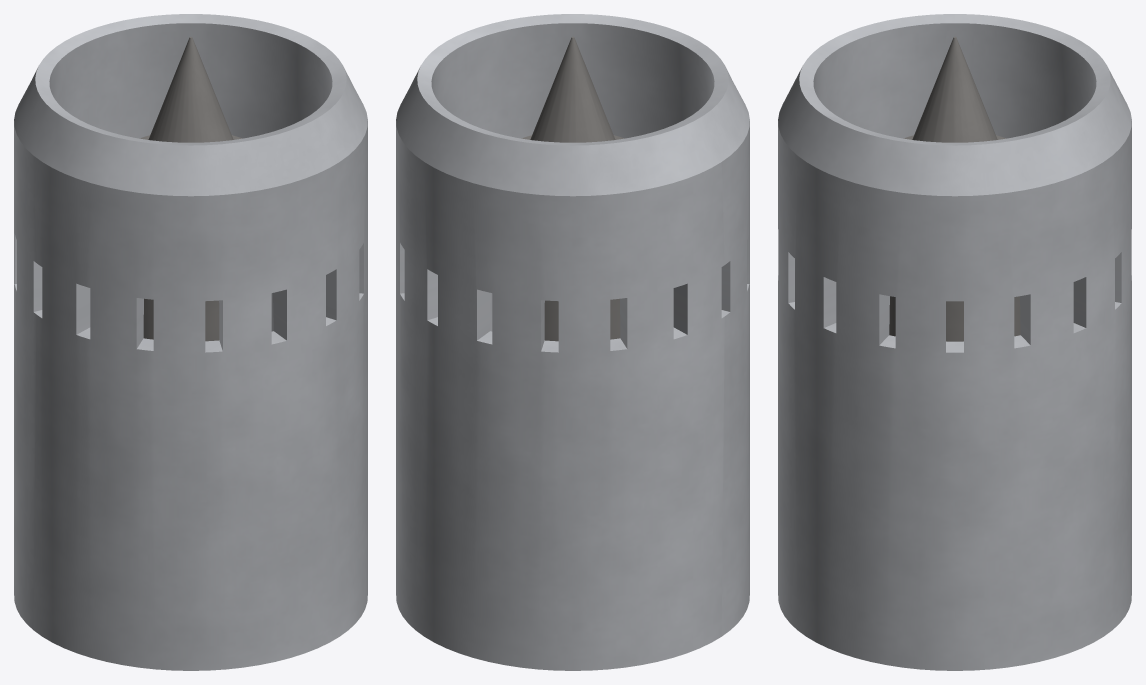
Rendered from jet07_shock_cone_intake_s_spike_aft.glb.
3 renders of one model, left to right at view 1: azimuth 30°, elevation 25°; view 2: azimuth 150°, elevation 25°; view 3: azimuth 270°, elevation 25°, orthographic.
Parts seen in each view (by area): view 1: cowl, spike, centrebody; view 2: cowl, spike, centrebody; view 3: cowl, spike, centrebody.
Part boxes in pixels (x1,y1,x2,y2): cowl: [14, 14, 367, 670]; spike: [148, 36, 233, 142]; centrebody: [139, 135, 242, 341]; cowl: [396, 14, 749, 670]; spike: [530, 36, 615, 142]; centrebody: [521, 135, 624, 341]; cowl: [778, 14, 1131, 670]; spike: [912, 36, 997, 142]; centrebody: [889, 135, 1020, 341].
Size of the model in its own units: 1.25 by 2.18 by 1.25.
3 materials, 2 textured.
